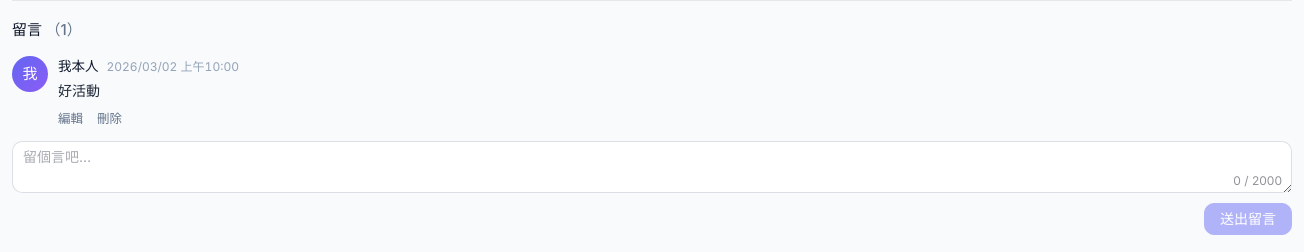
Test: CommentThread › deletes an own comment after a plain confirm (no password)
Click the button with test id "comment-delete". click: (110, 118)
box: [97,108,122,127]
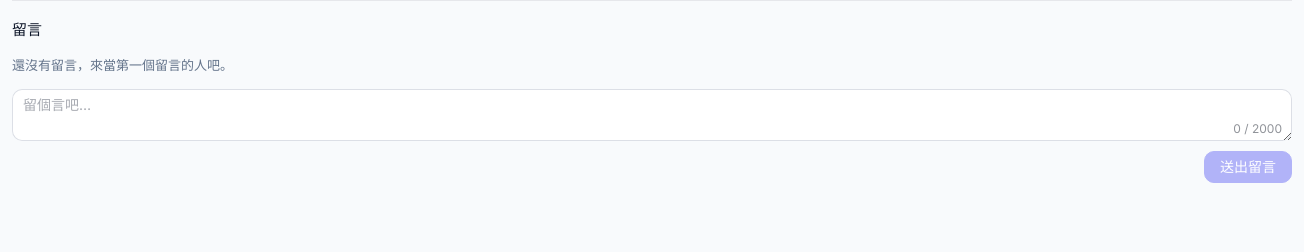
Check: no list items with test id "comment-item" are shown
